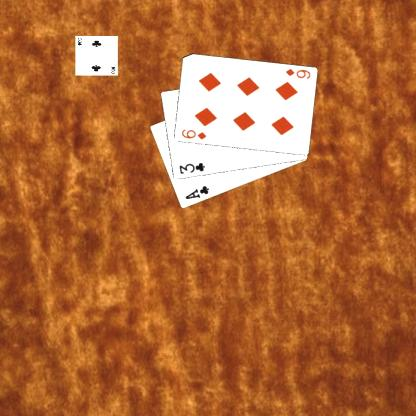3C: (176, 160, 206, 176)
6D: (178, 126, 208, 141), (283, 66, 311, 80)
AC: (182, 183, 210, 201)
